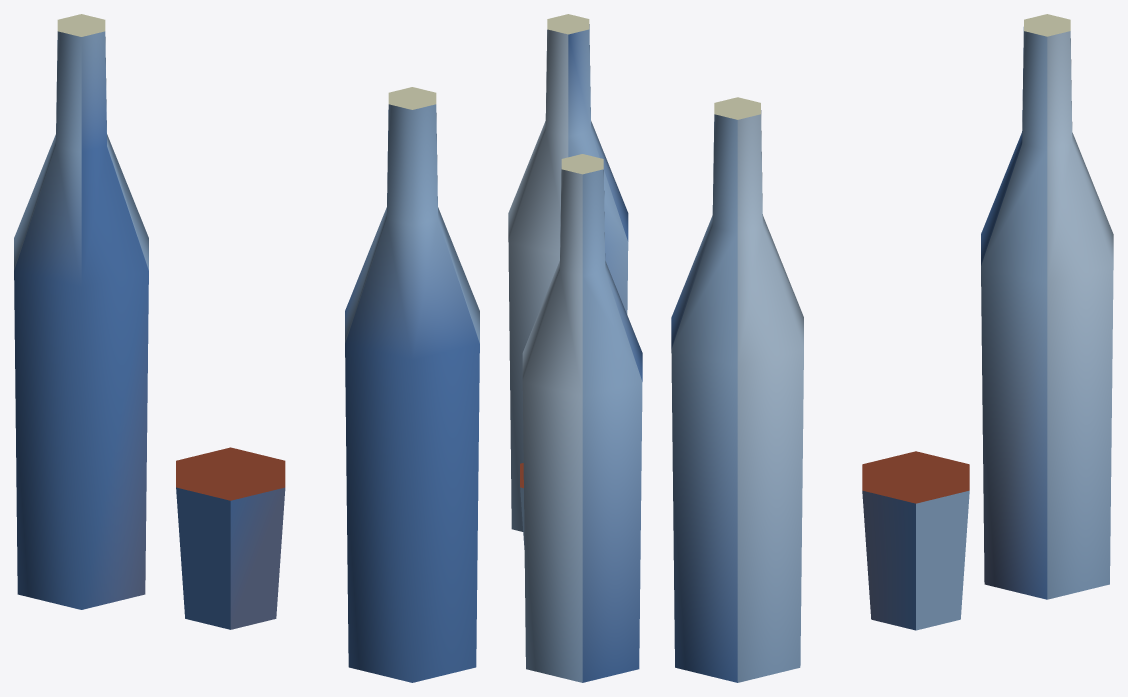
Rendered from wprop.bottles.glb.
3 renders of one model, left to right at view 1: azimuth 30°, elevation 25°; view 2: azimuth 150°, elevation 25°; view 3: azimuth 270°, elevation 25°, orthographic. The views are drawn at different scales.
Visible parts, largest first — view 1: kit_bottles, kit_glasses; view 2: kit_bottles, kit_glasses; view 3: kit_bottles, kit_glasses.
Boxes of the visible parts, bbox=[...] form: kit_bottles: bbox=[14, 14, 479, 682]; kit_glasses: bbox=[176, 447, 285, 629]; kit_bottles: bbox=[508, 14, 642, 682]; kit_glasses: bbox=[520, 463, 524, 549]; kit_bottles: bbox=[671, 14, 1113, 682]; kit_glasses: bbox=[862, 451, 969, 630].
Size of the model in its own units: 0.1692 by 0.29 by 0.2137.
2 materials, 1 textured.
